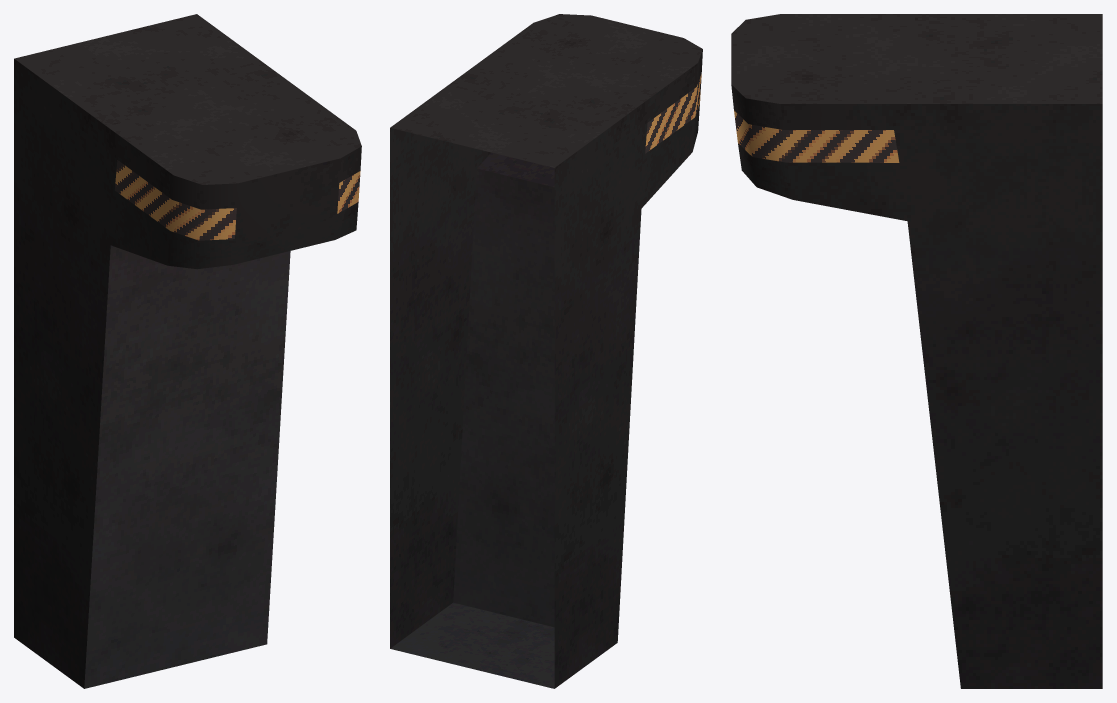
3 renders of one model, left to right at view 1: azimuth 30°, elevation 25°; view 2: azimuth 150°, elevation 25°; view 3: azimuth 270°, elevation 25°, orthographic. The views are drawn at different scales.
Parts seen in each view (by area): view 1: 6; view 2: 6; view 3: 6.
Part boxes in pixels (x1,y1,x2,y2): 6: (14,14,361,688); 6: (390,14,702,688); 6: (731,14,1102,688).
Size of the model in its own units: 1.59 by 4.8 by 2.76.
Materials: 1 (1 with a texture image).
